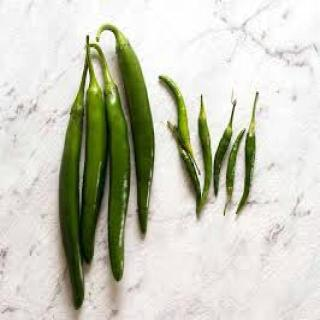Cabai Hijau: (114, 25, 158, 276), (57, 29, 83, 301), (82, 37, 108, 276)
